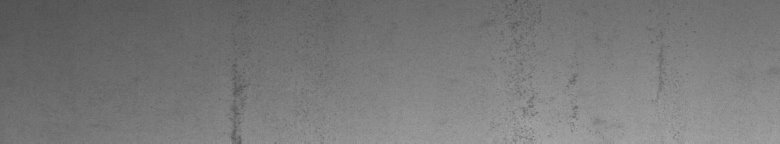ib: (510, 21, 670, 132)
